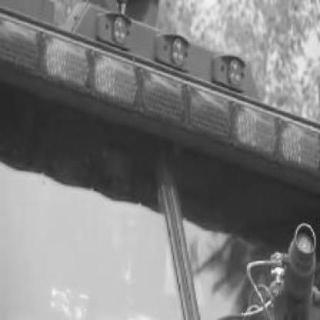other: (6, 20, 317, 173)
